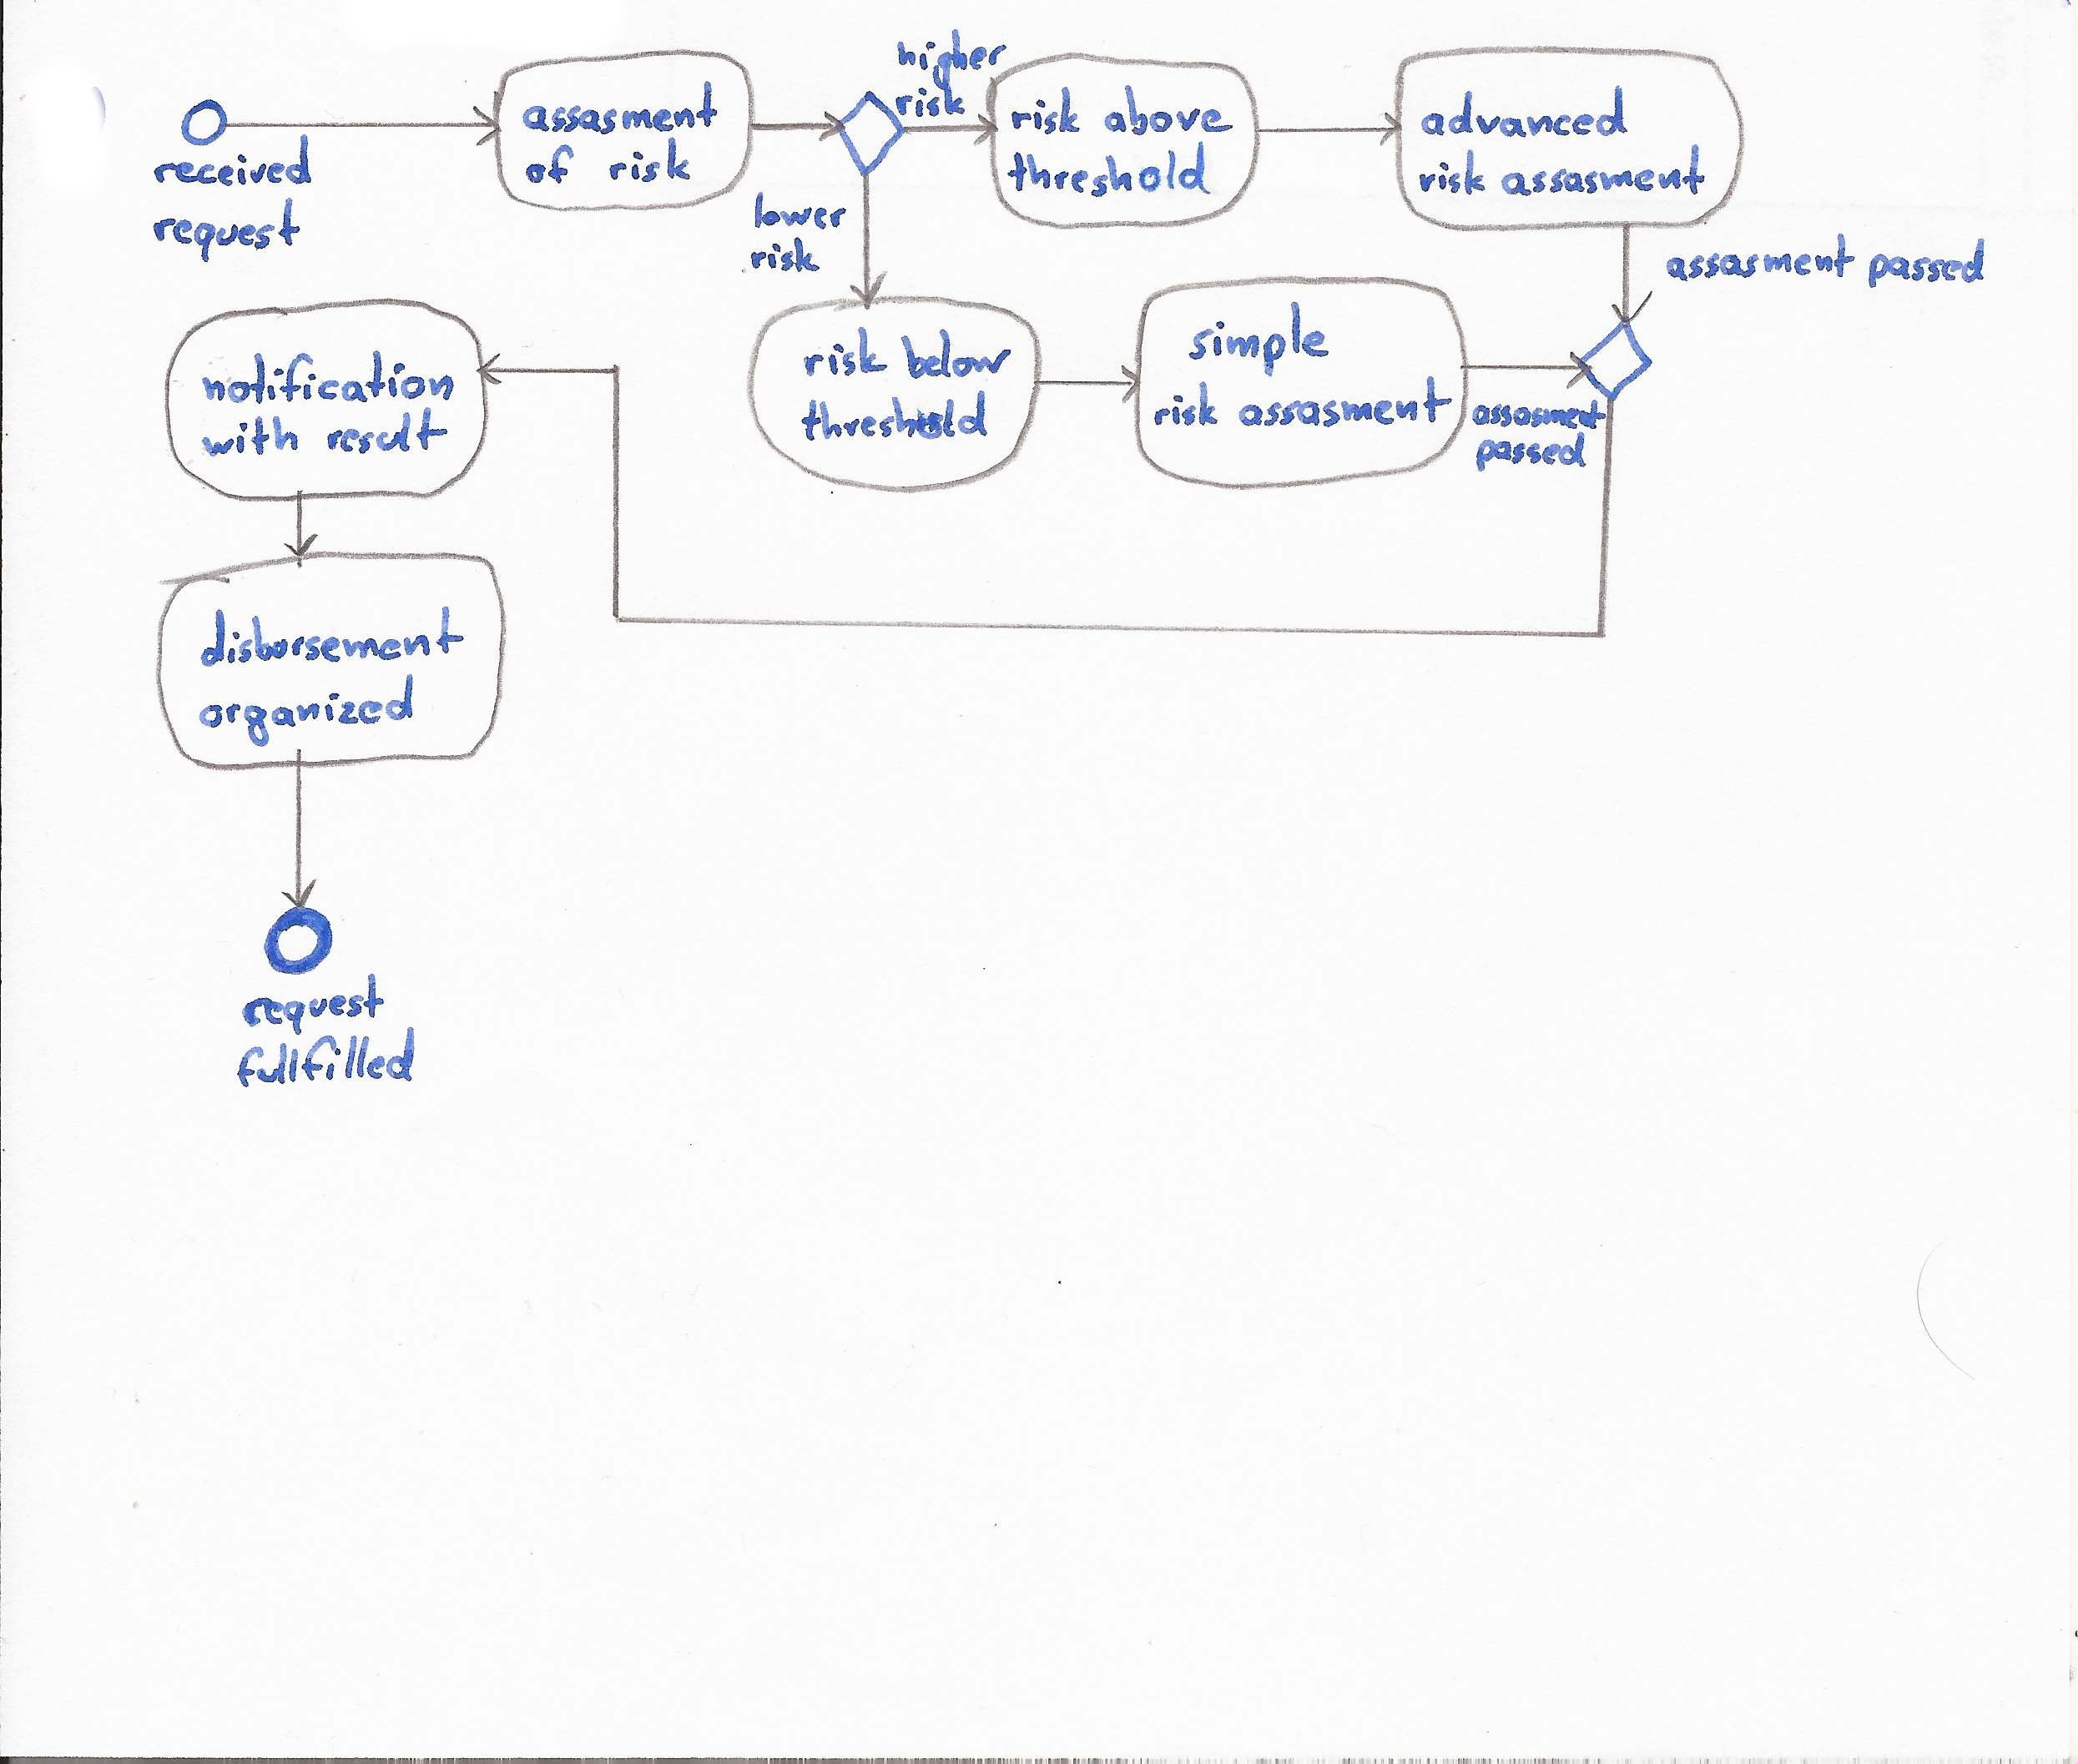above: (1099, 79, 1238, 142)
advanced: (1415, 81, 1630, 143)
assasment: (1232, 373, 1458, 434), (516, 75, 723, 142), (1495, 140, 1709, 201), (1661, 229, 1861, 285), (1465, 395, 1609, 434)
below: (896, 324, 1015, 383)
disbursement: (194, 602, 467, 674)
fullfilled: (231, 1022, 420, 1092)
higher: (891, 26, 1010, 94)
lower: (749, 189, 851, 236)
notification: (196, 346, 460, 411)
of: (520, 142, 579, 189)
organized: (193, 670, 417, 751)
passed: (1863, 234, 1989, 296), (1469, 429, 1591, 478)
received: (147, 130, 317, 191)
request: (145, 193, 306, 268), (236, 969, 390, 1039)
result: (322, 404, 453, 462)
risk: (798, 324, 893, 385), (604, 133, 695, 189), (1148, 378, 1222, 434), (1415, 147, 1490, 201), (889, 77, 968, 124), (746, 233, 823, 277)
simple: (1183, 297, 1334, 383)
threshold: (1003, 137, 1215, 203), (798, 385, 994, 445)
with: (198, 413, 305, 462)
